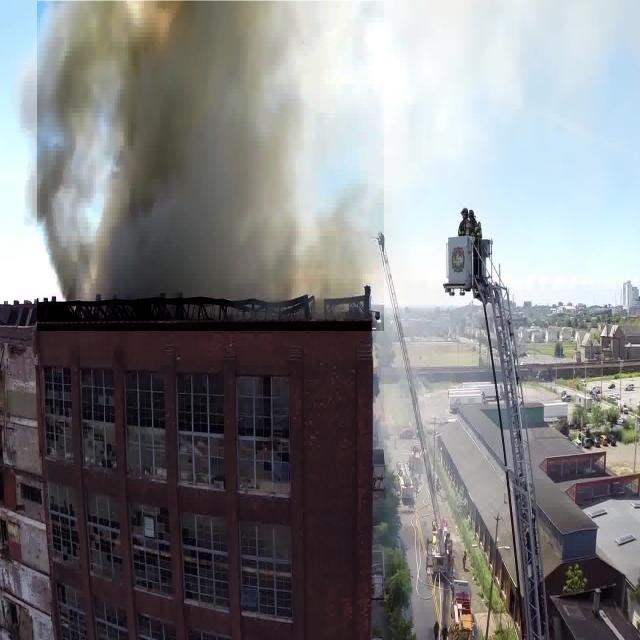Smoke: (37, 1, 384, 332)
